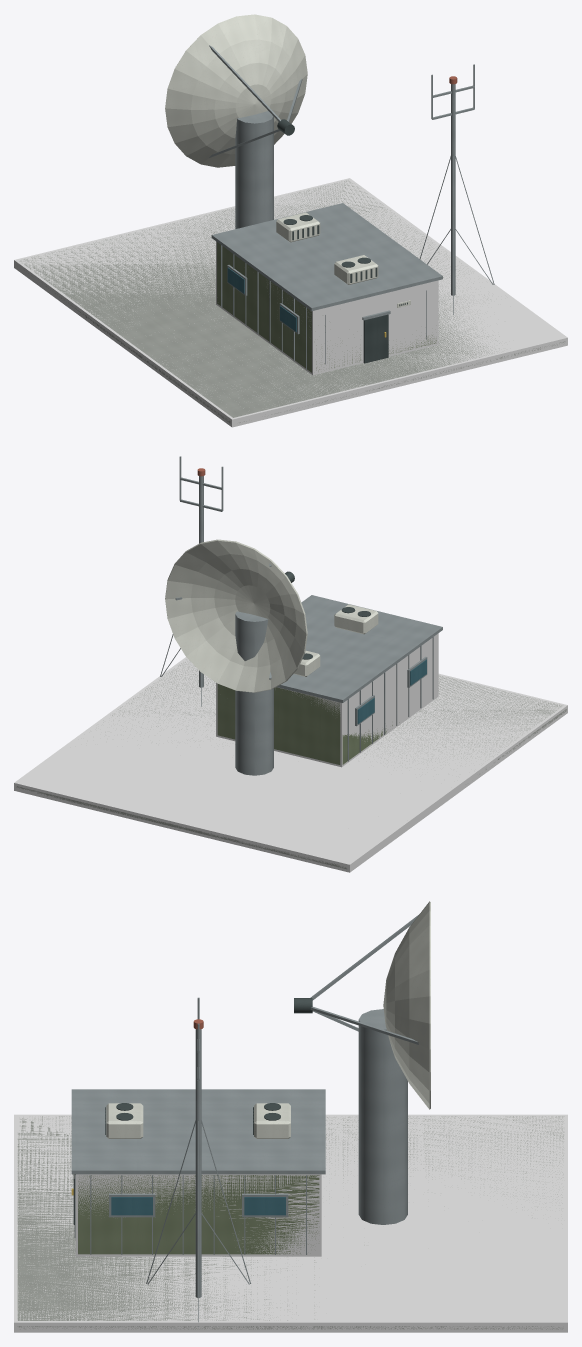
Rendered from RadarPost.fbx.
3 renders of one model, top to bottom at view 1: azimuth 30°, elevation 25°; view 2: azimuth 150°, elevation 25°; view 3: azimuth 270°, elevation 25°, orthographic. The views are drawn at different scales.
Parts seen in each view (by area): view 1: LOD0, COL_Static; view 2: COL_Static, LOD0; view 3: COL_Static, LOD0.
Part boxes in pixels (x1,y1,x2,y2): LOD0: (19, 14, 565, 423); COL_Static: (14, 178, 567, 427); COL_Static: (14, 633, 567, 872); LOD0: (16, 456, 566, 869); COL_Static: (14, 1114, 567, 1332); LOD0: (17, 901, 564, 1329).
Size of what is drawn, in the model's own units: 1601 by 1140 by 1800.
